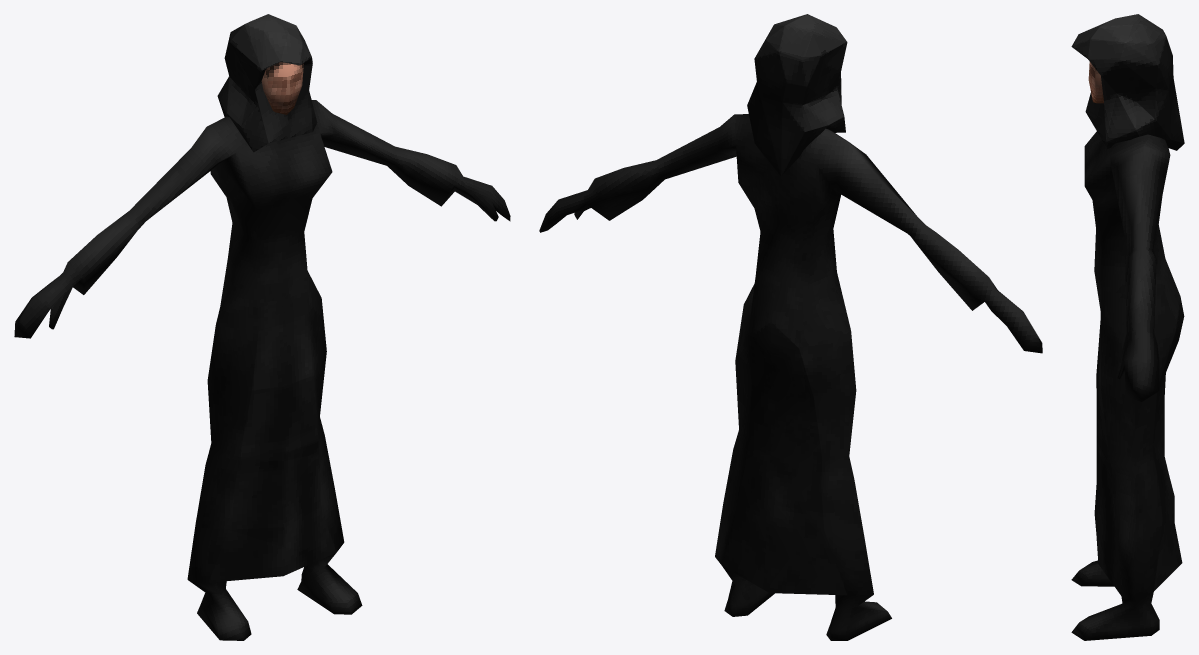
File: npc_nun.glb
3 views of the same model, side by side, from view 1: azimuth 30°, elevation 25°; view 2: azimuth 150°, elevation 25°; view 3: azimuth 270°, elevation 25° (orthographic).
Visible parts, largest first — view 1: npc_nun; view 2: npc_nun; view 3: npc_nun.
Part boxes in pixels (x1,y1,x2,y2): npc_nun: (14,14,510,640); npc_nun: (539,14,1042,640); npc_nun: (1071,14,1184,640).
Bounding box in the file's own units: 2.15 × 2.43 × 0.4259.
1 material, 1 textured.
